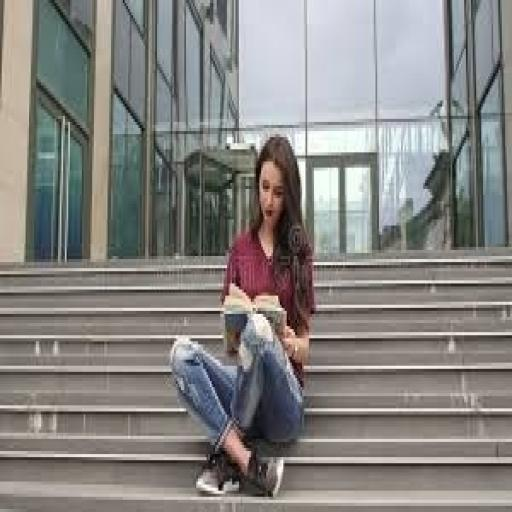sitting: (168, 131, 318, 500)
